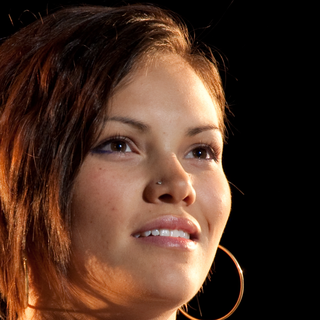eye: (93, 133, 143, 160), (179, 140, 216, 167)
